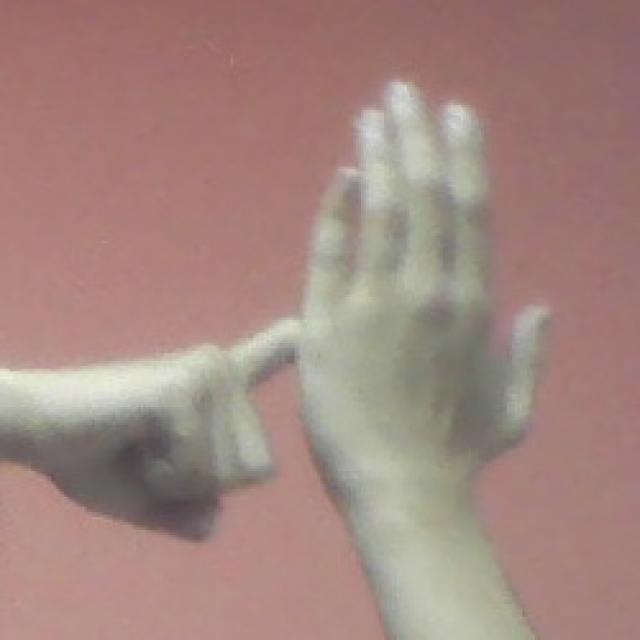Alphabet-R: (0, 56, 585, 640)
